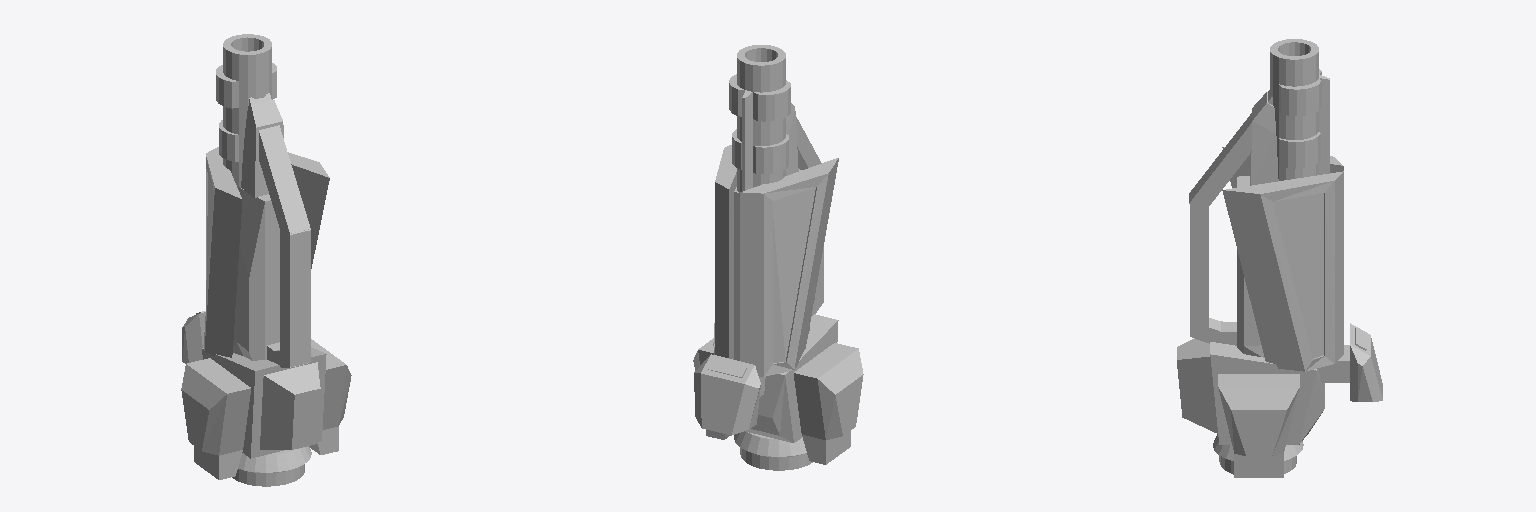
Rendered from midstone_ship2.obj.
3 views of the same model, side by side, from view 1: azimuth 30°, elevation 25°; view 2: azimuth 150°, elevation 25°; view 3: azimuth 270°, elevation 25° (orthographic).
Parts seen in each view (by area): view 1: Ship; view 2: Ship; view 3: Ship.
Boxes of the visible parts, x1=… form: Ship: x1=181, y1=34, x2=351, y2=486; Ship: x1=693, y1=45, x2=863, y2=470; Ship: x1=1177, y1=39, x2=1382, y2=477.
Bounding box in the file's own units: 0.434 × 1.2 × 0.5468.